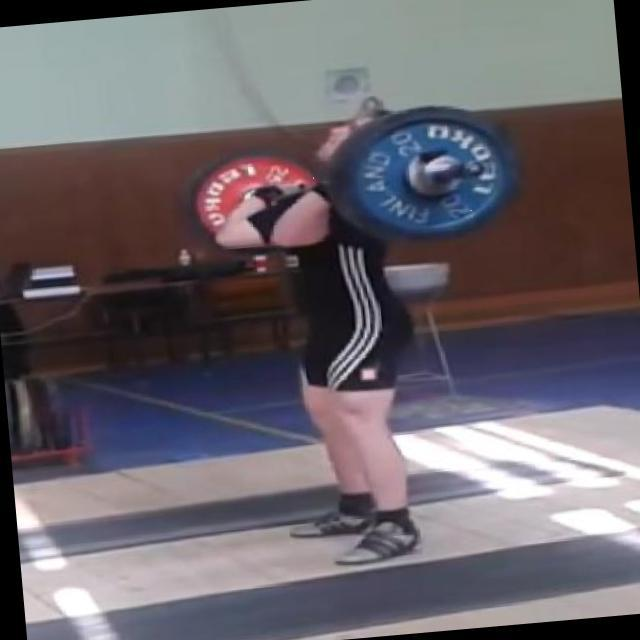barbell: (305, 91, 535, 261)
